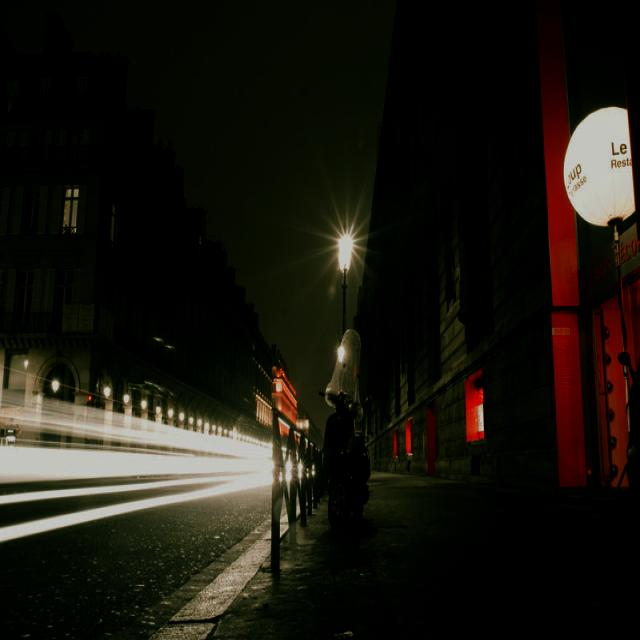Motorbike: (316, 384, 377, 535)
